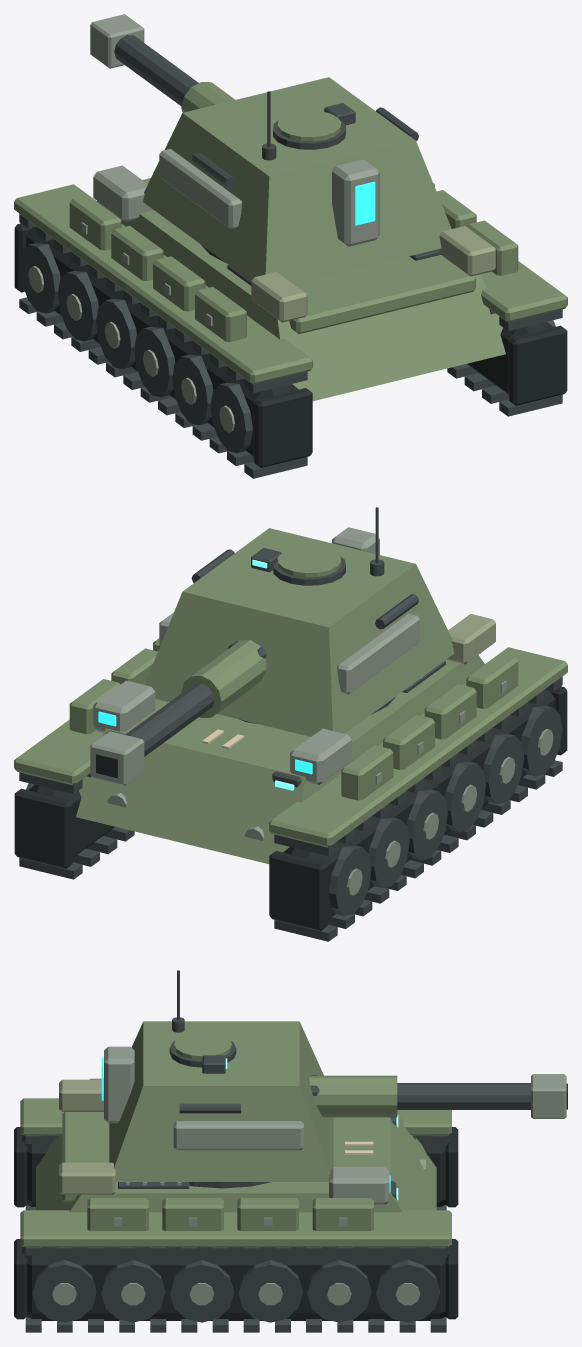
Rendered from tank_bastion_premium.glb.
3 views of the same model, one above another, from view 1: azimuth 30°, elevation 25°; view 2: azimuth 150°, elevation 25°; view 3: azimuth 270°, elevation 25° (orthographic). The views are drawn at different scales.
Visible parts, largest first — view 1: tank_bastion_mk2_TankPaint.007, tank_bastion_mk2_TankPaint.008, tank_bastion_mk2_RunningGear.007, tank_bastion_mk2_TankTracks.007, tank_bastion_mk2_ArmorEdges.008, tank_bastion_mk2_RunningGear.008, tank_bastion_mk2_ArmorEdges.007, tank_bastion_mk2_Canvas.001, tank_bastion_mk2_EnergyGlow.007; view 2: tank_bastion_mk2_TankPaint.007, tank_bastion_mk2_TankPaint.008, tank_bastion_mk2_RunningGear.007, tank_bastion_mk2_TankTracks.007, tank_bastion_mk2_ArmorEdges.007, tank_bastion_mk2_ArmorEdges.008, tank_bastion_mk2_RunningGear.008, tank_bastion_mk2_Canvas.001; view 3: tank_bastion_mk2_TankPaint.007, tank_bastion_mk2_TankPaint.008, tank_bastion_mk2_RunningGear.007, tank_bastion_mk2_TankTracks.007, tank_bastion_mk2_ArmorEdges.008, tank_bastion_mk2_RunningGear.008, tank_bastion_mk2_ArmorEdges.007, tank_bastion_mk2_Canvas.001.
Part boxes in pixels (box(x1,y1,x2,y2)): tank_bastion_mk2_TankPaint.007: box(14, 178, 567, 401); tank_bastion_mk2_TankPaint.008: box(143, 77, 451, 284); tank_bastion_mk2_RunningGear.007: box(19, 213, 562, 478); tank_bastion_mk2_TankTracks.007: box(14, 223, 567, 467); tank_bastion_mk2_ArmorEdges.008: box(90, 14, 379, 246); tank_bastion_mk2_RunningGear.008: box(114, 35, 418, 262); tank_bastion_mk2_ArmorEdges.007: box(28, 165, 243, 432); tank_bastion_mk2_Canvas.001: box(251, 226, 495, 322); tank_bastion_mk2_EnergyGlow.007: box(355, 181, 375, 225); tank_bastion_mk2_TankPaint.007: box(14, 638, 567, 863); tank_bastion_mk2_TankPaint.008: box(144, 528, 454, 736); tank_bastion_mk2_RunningGear.007: box(19, 661, 562, 941); tank_bastion_mk2_TankTracks.007: box(14, 686, 567, 930); tank_bastion_mk2_ArmorEdges.007: box(93, 663, 553, 895); tank_bastion_mk2_ArmorEdges.008: box(90, 527, 419, 785); tank_bastion_mk2_RunningGear.008: box(125, 507, 418, 756); tank_bastion_mk2_Canvas.001: box(446, 614, 495, 664); tank_bastion_mk2_TankPaint.007: box(20, 1078, 451, 1247); tank_bastion_mk2_TankPaint.008: box(109, 1021, 397, 1181); tank_bastion_mk2_RunningGear.007: box(25, 1117, 446, 1332); tank_bastion_mk2_TankTracks.007: box(14, 1127, 458, 1320); tank_bastion_mk2_ArmorEdges.008: box(104, 1046, 566, 1150); tank_bastion_mk2_RunningGear.008: box(169, 970, 530, 1188); tank_bastion_mk2_ArmorEdges.007: box(52, 1158, 425, 1305); tank_bastion_mk2_Canvas.001: box(59, 1079, 115, 1194).
Bounding box in the file's own units: 2.71 × 2.42 × 4.5.
